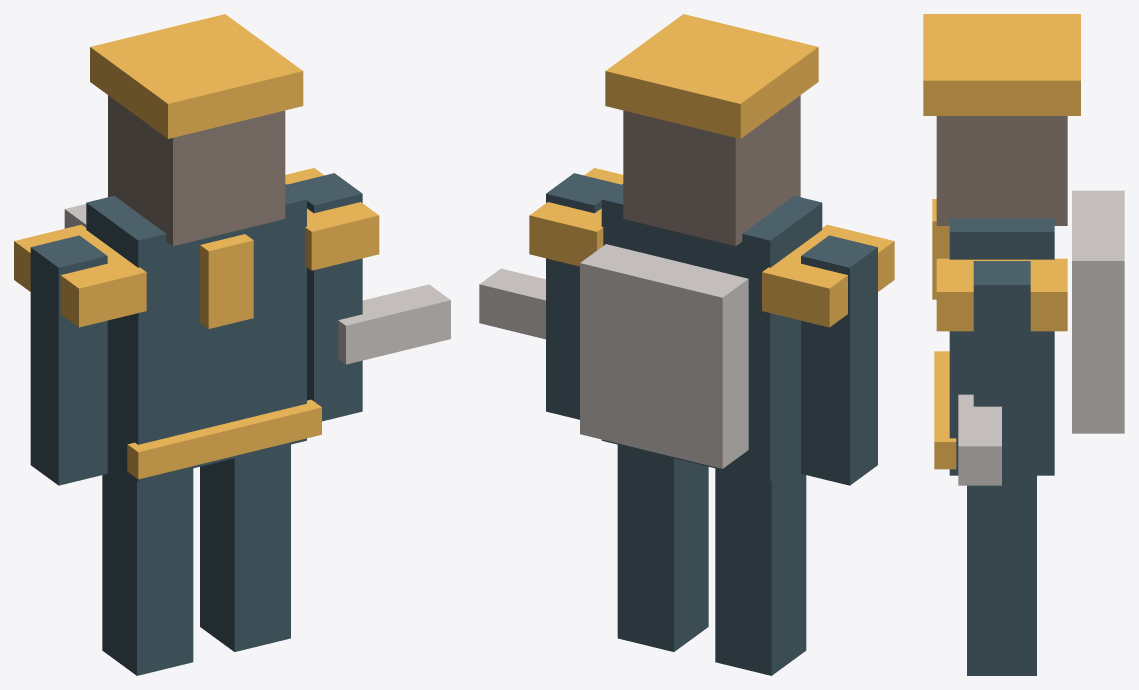
File: 09_nyra_skyharrow_warden_of_observation.glb
3 renders of one model, left to right at view 1: azimuth 30°, elevation 25°; view 2: azimuth 150°, elevation 25°; view 3: azimuth 270°, elevation 25°, orthographic.
Parts seen in each view (by area): view 1: Nyra Skyharrow, Warden of Observation; view 2: Nyra Skyharrow, Warden of Observation; view 3: Nyra Skyharrow, Warden of Observation.
Part boxes in pixels (left/top/right/bottom): Nyra Skyharrow, Warden of Observation: left=14, top=14, right=450, bottom=675; Nyra Skyharrow, Warden of Observation: left=479, top=14, right=894, bottom=675; Nyra Skyharrow, Warden of Observation: left=923, top=14, right=1124, bottom=675.
Size of the model in its own units: 1.06 by 1.54 by 0.4737.
